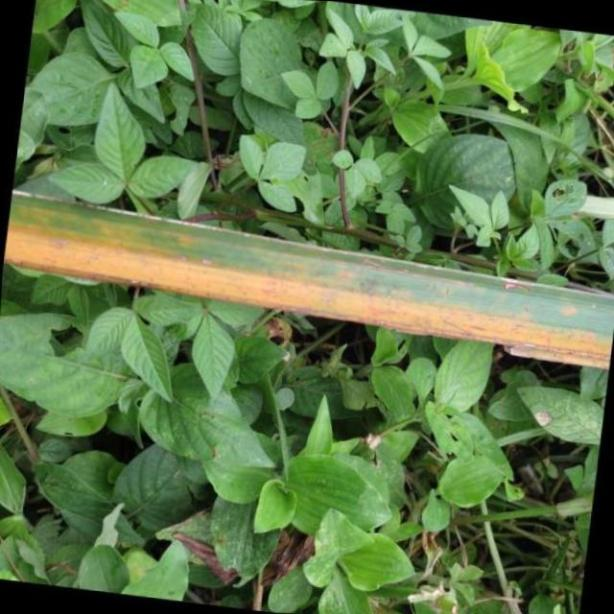Megnesium: (1, 182, 614, 370)
